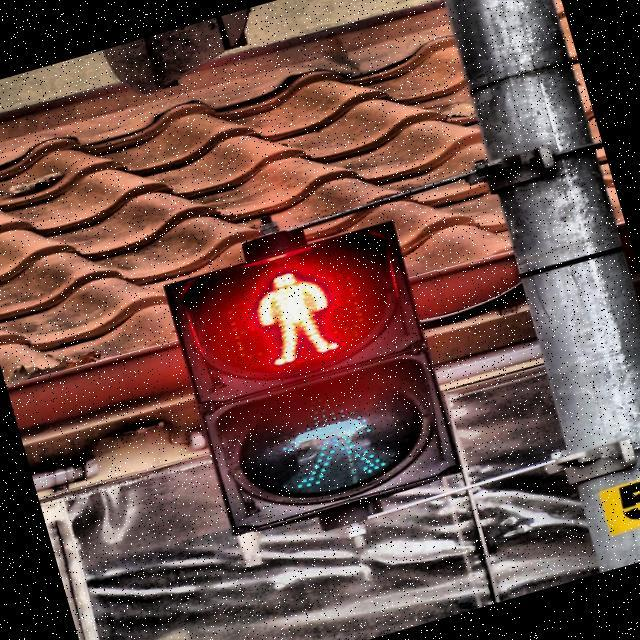red_light: (242, 258, 348, 374)
